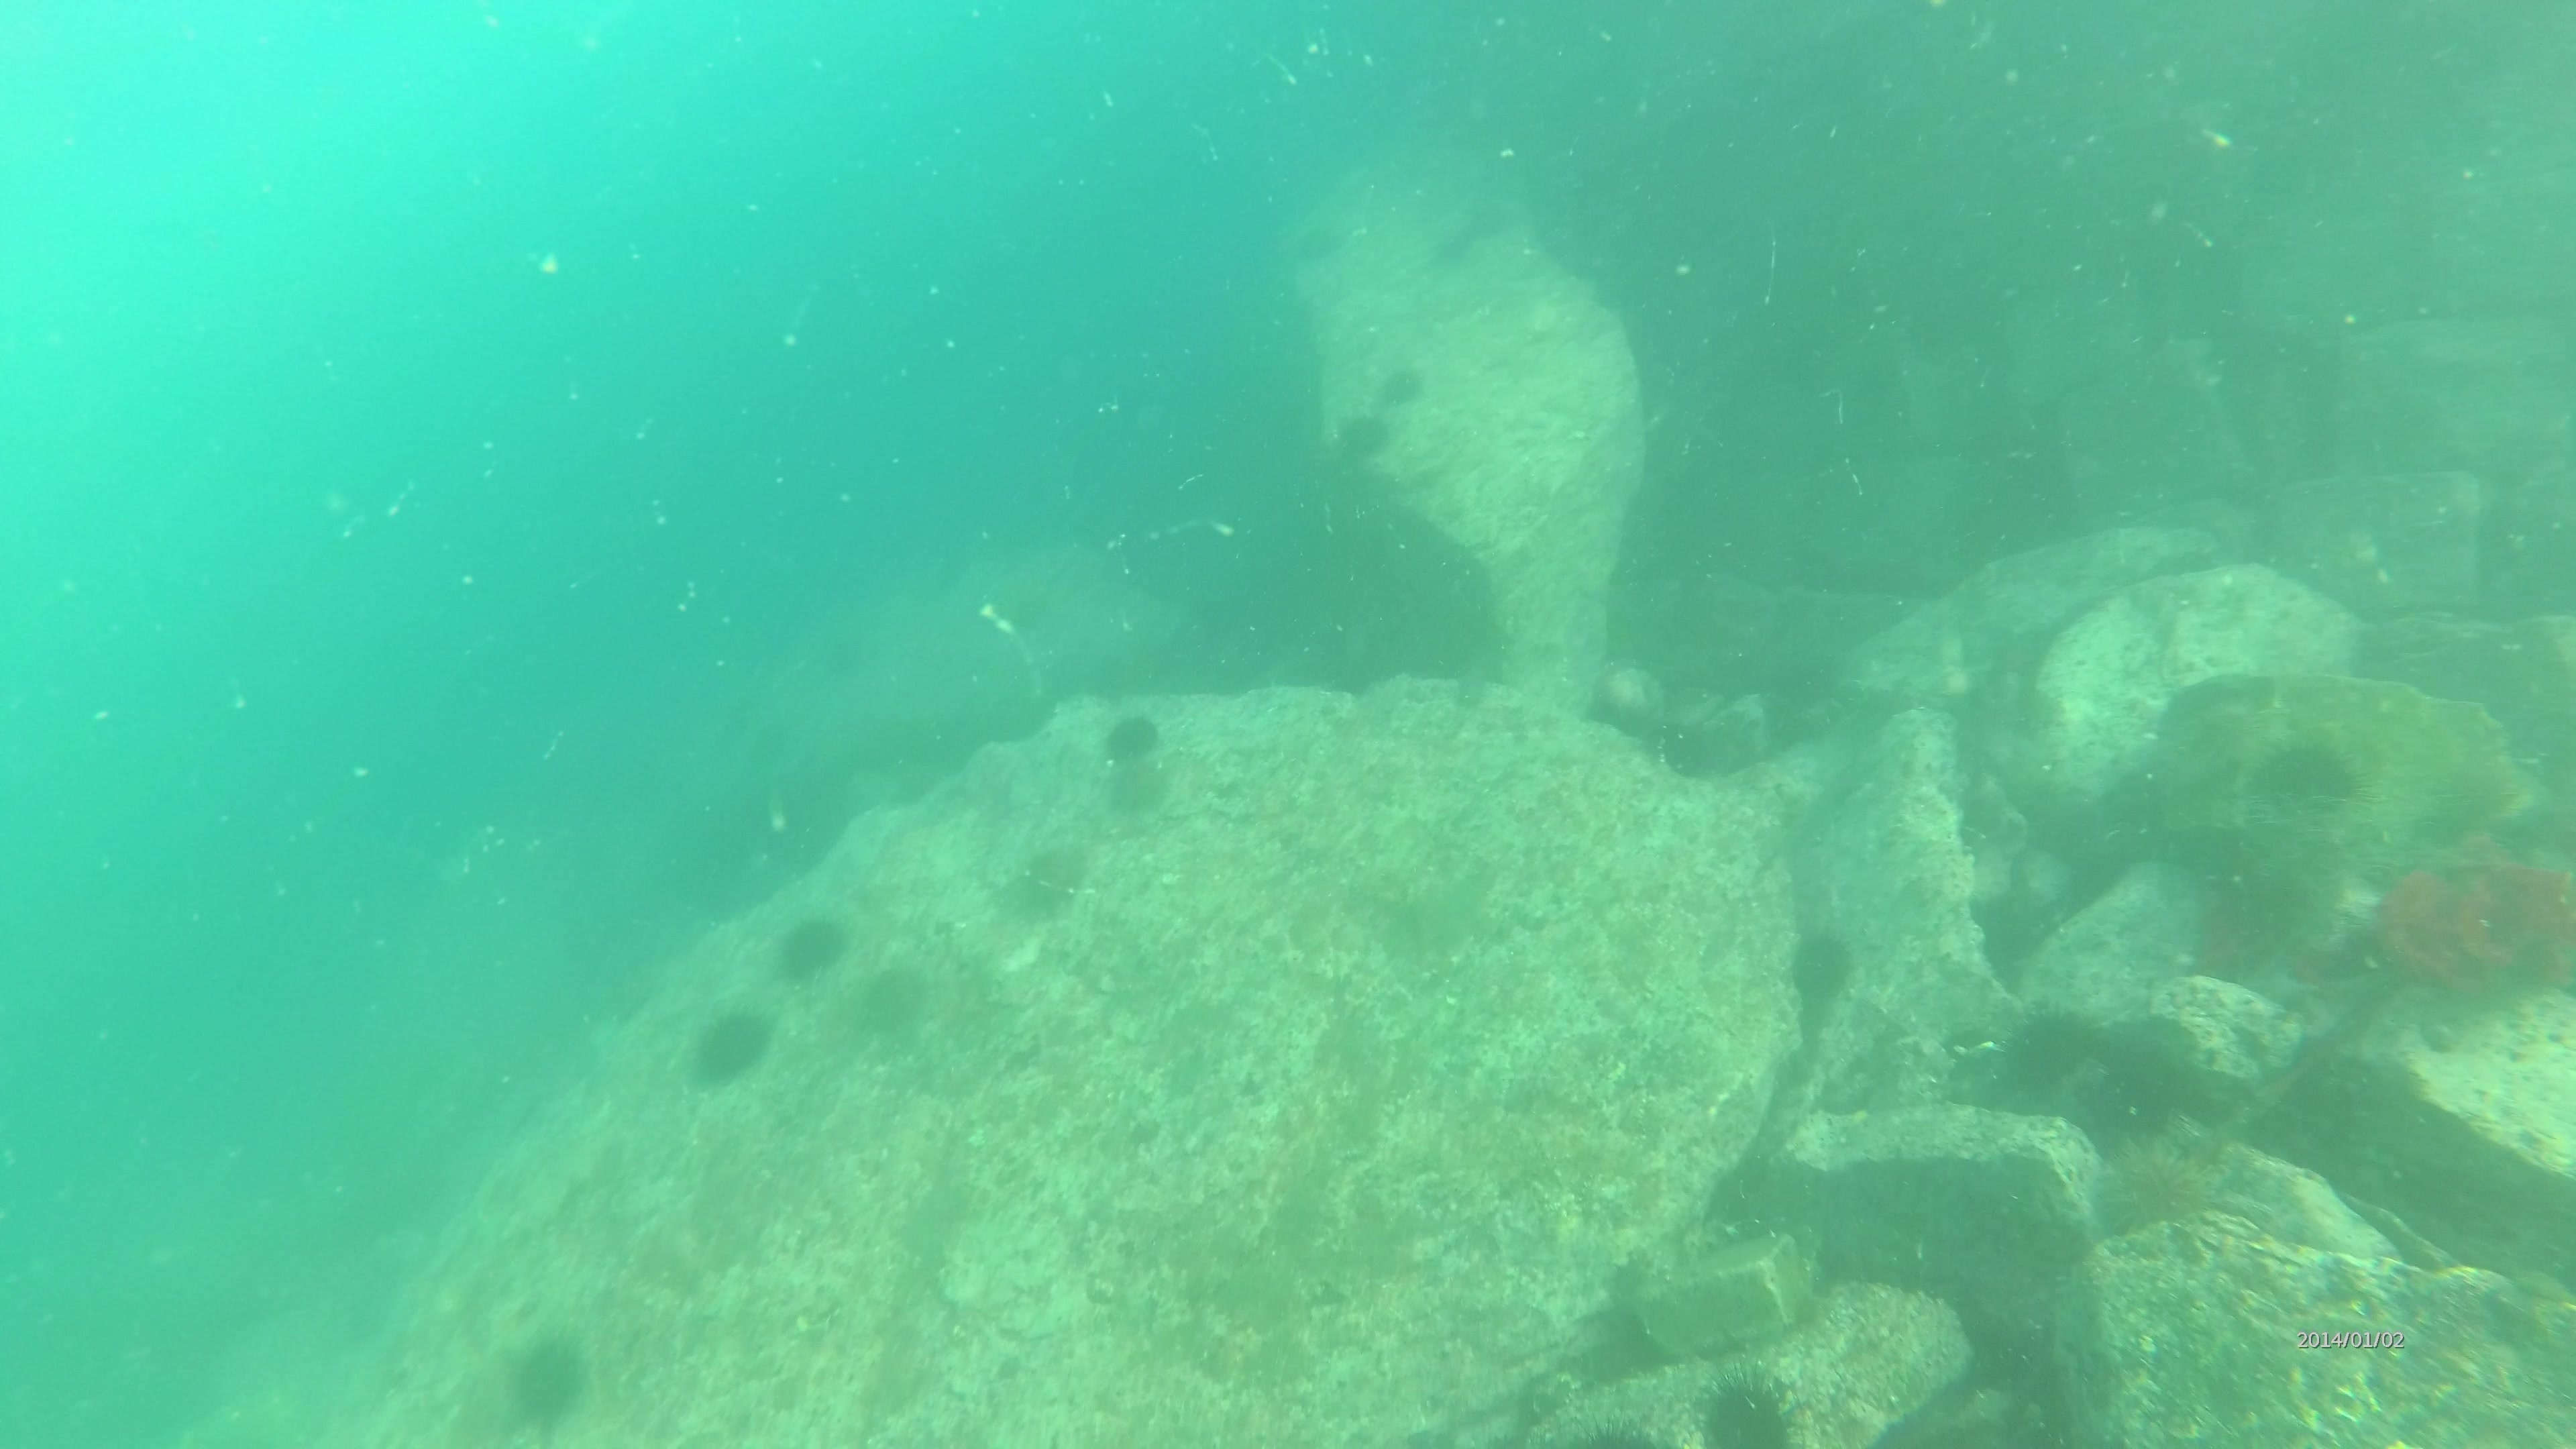echinus: (2091, 1134, 2245, 1267), (2075, 1017, 2201, 1146), (1989, 1000, 2105, 1109), (2249, 731, 2365, 823), (499, 1329, 596, 1433), (1691, 1366, 1806, 1449), (996, 837, 1092, 927), (683, 1001, 777, 1092), (1095, 708, 1175, 814), (851, 955, 936, 1047), (1782, 920, 1863, 1014), (770, 908, 853, 987), (1327, 405, 1396, 471), (1375, 357, 1430, 414)
